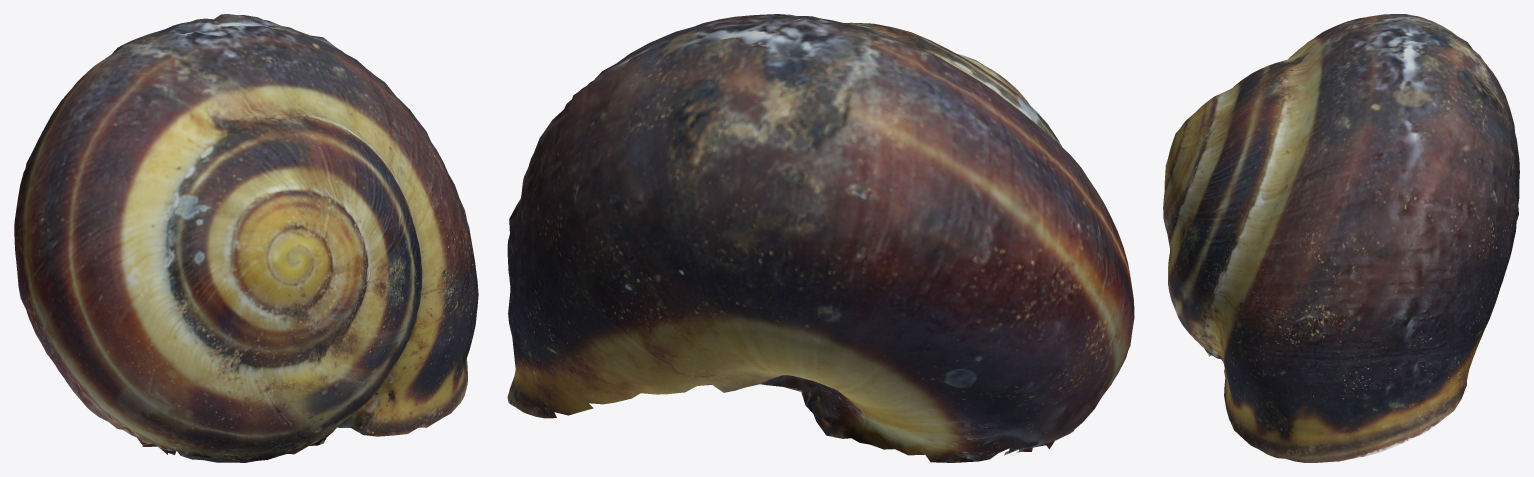
The model's file is snail_shell_-_lowpoly.glb.
3 views of the same model, side by side, from view 1: azimuth 30°, elevation 25°; view 2: azimuth 150°, elevation 25°; view 3: azimuth 270°, elevation 25° (orthographic). The views are drawn at different scales.
Visible parts, largest first — view 1: haus1_3k_001; view 2: haus1_3k_001; view 3: haus1_3k_001.
Part boxes in pixels (x1,y1,x2,y2): haus1_3k_001: [14, 14, 478, 462]; haus1_3k_001: [507, 14, 1134, 462]; haus1_3k_001: [1163, 14, 1519, 462].
Size of the model in its own units: 1.16 by 0.9243 by 0.8927.
1 material, 1 textured.
